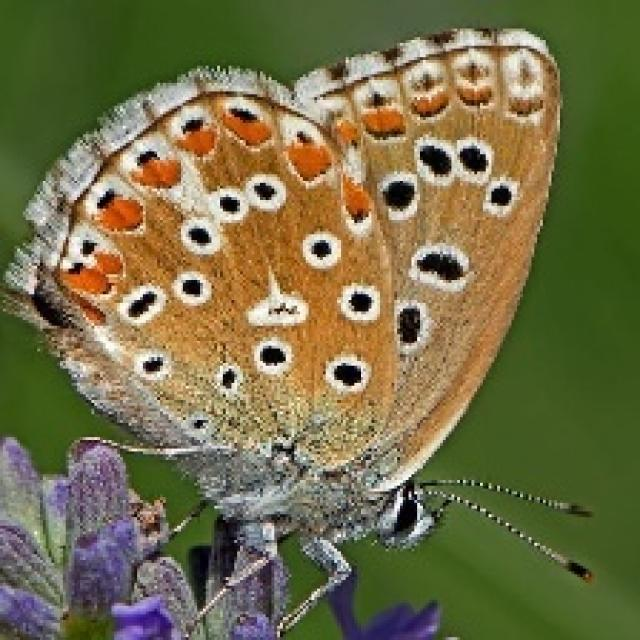butterfly: (0, 22, 594, 637)
